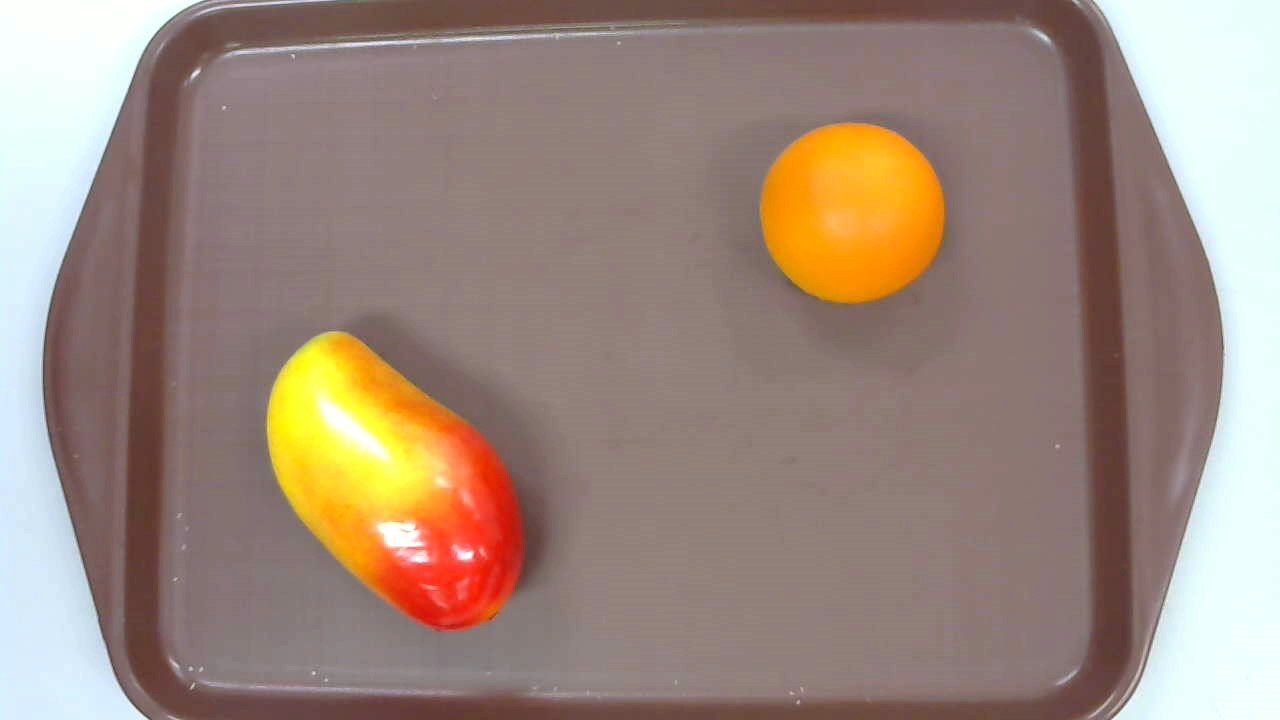bun: (760, 122, 947, 304)
red mango: (266, 330, 525, 634)
